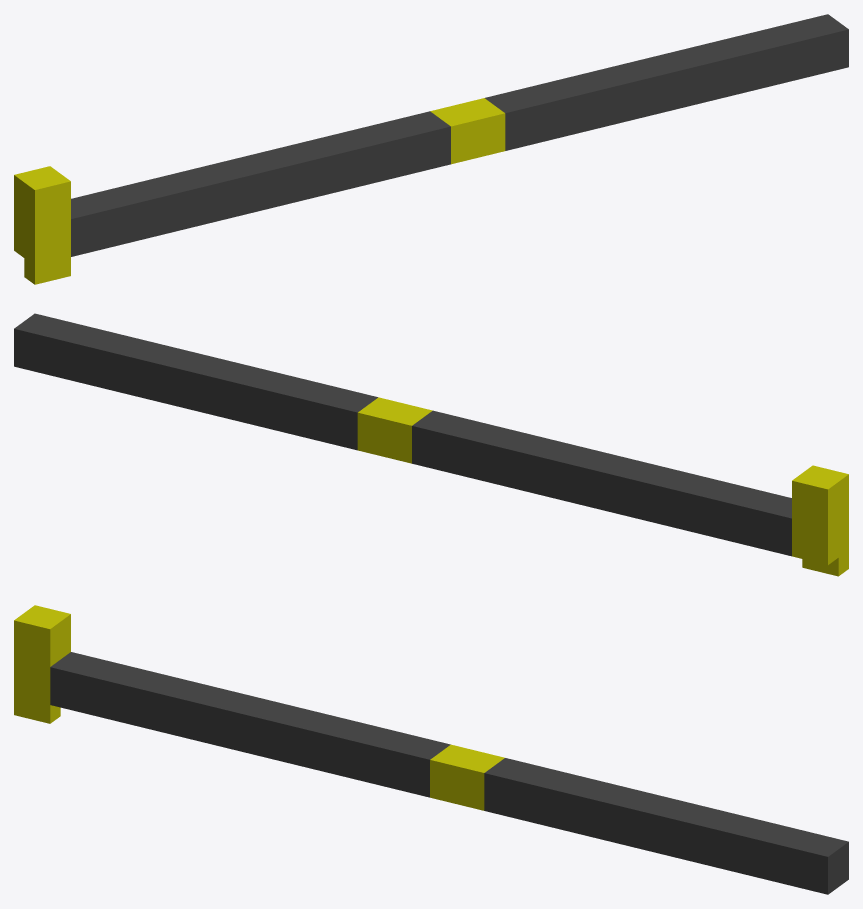
File: MammothTankCannon1.obj
3 views of the same model, one above another, from view 1: azimuth 30°, elevation 25°; view 2: azimuth 150°, elevation 25°; view 3: azimuth 330°, elevation 25° (orthographic).
Size of the model in its own units: 4.5 by 0.5 by 0.2.
Materials: 1 (1 with a texture image).
